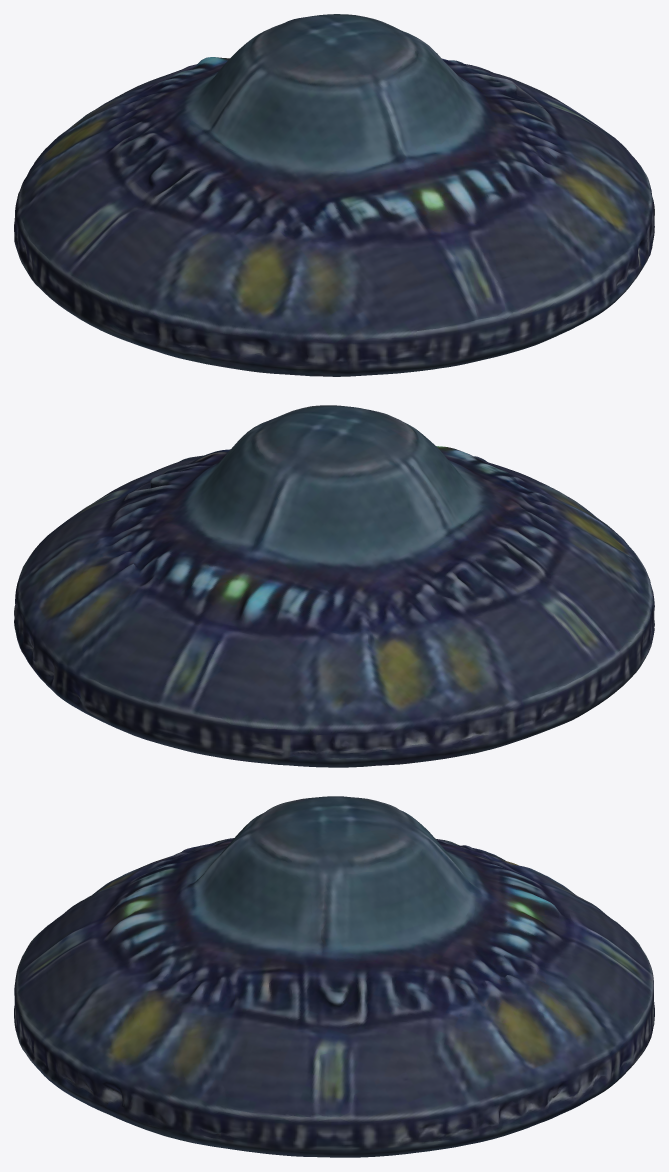
The model's file is d3c69e249278_classic_alien_ufo__.fbx.
The picture shows the model from 3 angles, top to bottom: view 1: azimuth 30°, elevation 25°; view 2: azimuth 150°, elevation 25°; view 3: azimuth 270°, elevation 25°; orthographic projection.
Visible parts, largest first — view 1: high_poly; view 2: high_poly; view 3: high_poly.
Boxes of the visible parts, x1,y1,x2,y2 form: high_poly: (14, 14, 654, 376); high_poly: (14, 405, 654, 767); high_poly: (14, 796, 654, 1157).
Size of the model in its own units: 99.92 by 39.52 by 100.
